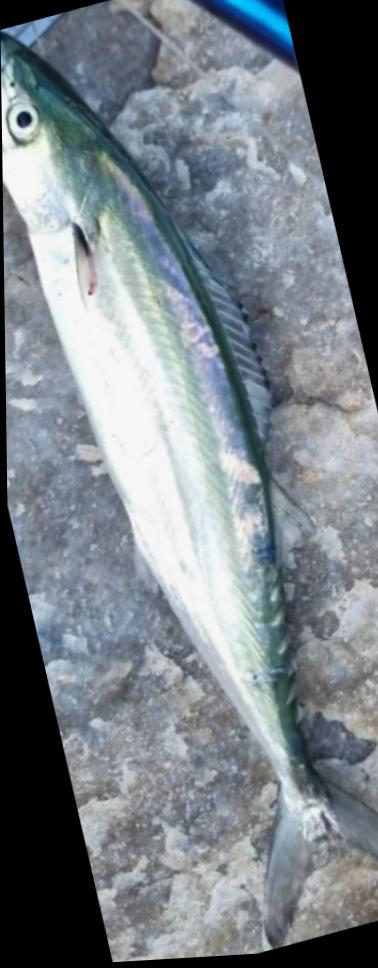fish: (0, 32, 378, 952)
